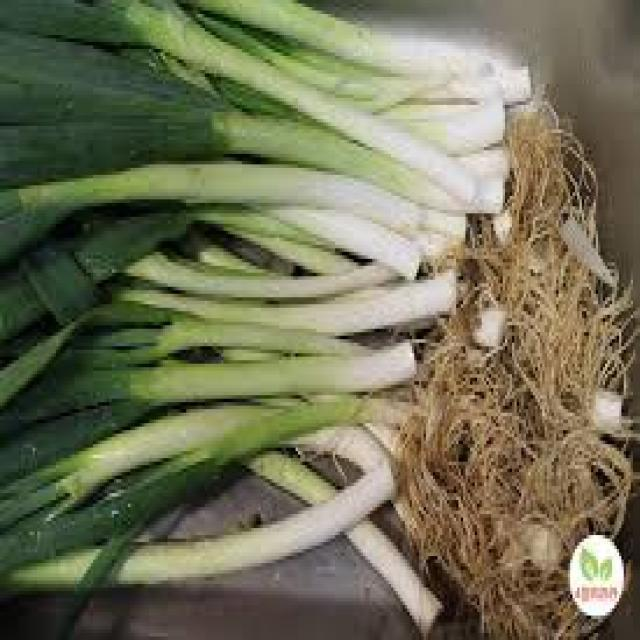green_onion: (0, 0, 554, 225), (0, 432, 456, 630), (0, 238, 490, 387)
